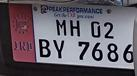0: (88, 19, 102, 39)
2: (103, 20, 116, 41)
6: (121, 44, 135, 63), (92, 42, 104, 63)
7: (77, 40, 91, 63)
8: (106, 41, 120, 64)
B: (38, 37, 54, 60)
H: (69, 19, 82, 39)
M: (54, 18, 68, 38)
Y: (52, 39, 67, 60)
